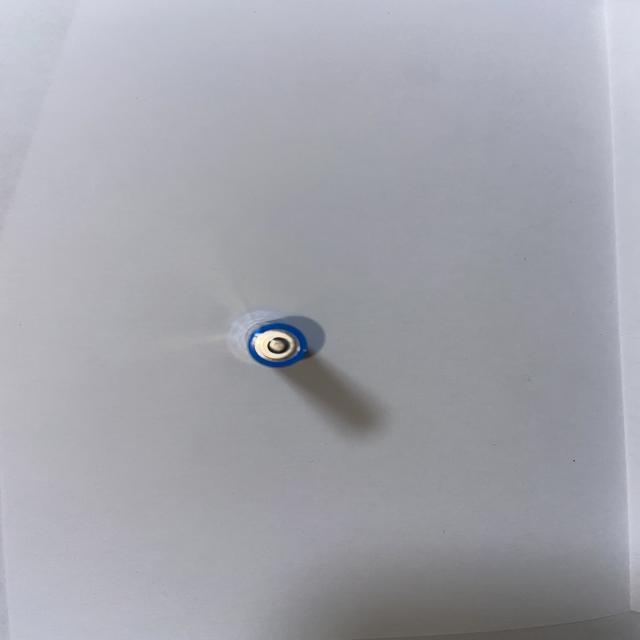Hazard: (242, 318, 312, 370)
